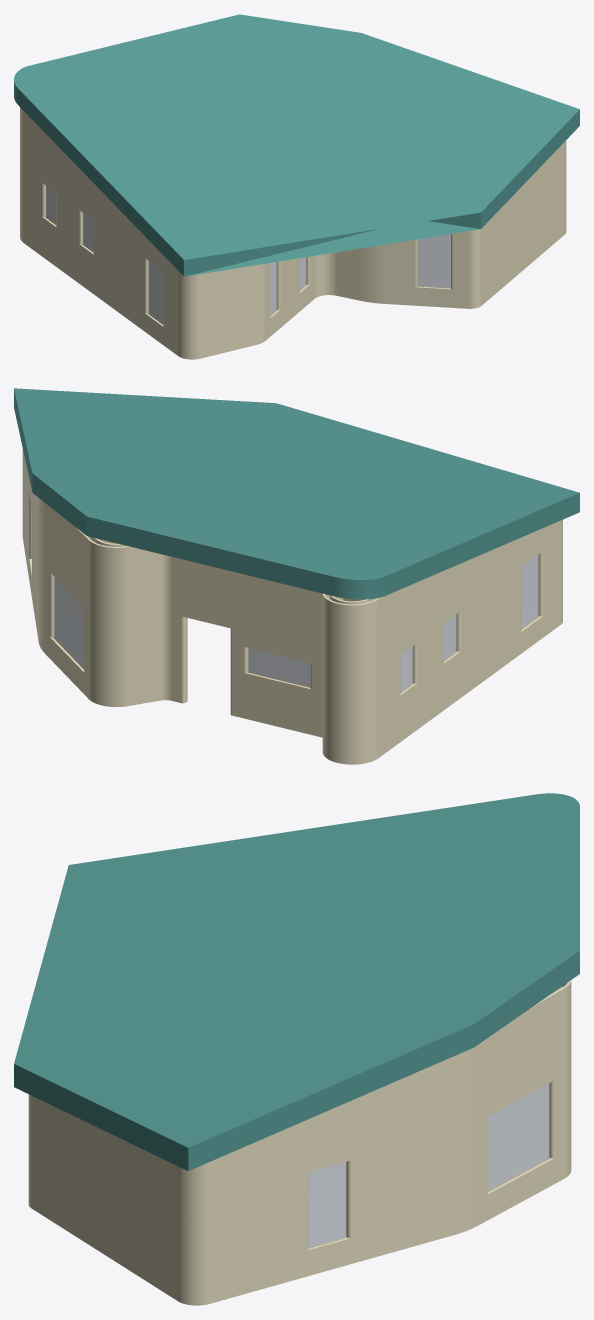
3 views of the same model, one above another, from view 1: azimuth 30°, elevation 25°; view 2: azimuth 150°, elevation 25°; view 3: azimuth 270°, elevation 25° (orthographic). The views are drawn at different scales.
Bounding box in the file's own units: 41.44 × 14.49 × 32.94.
